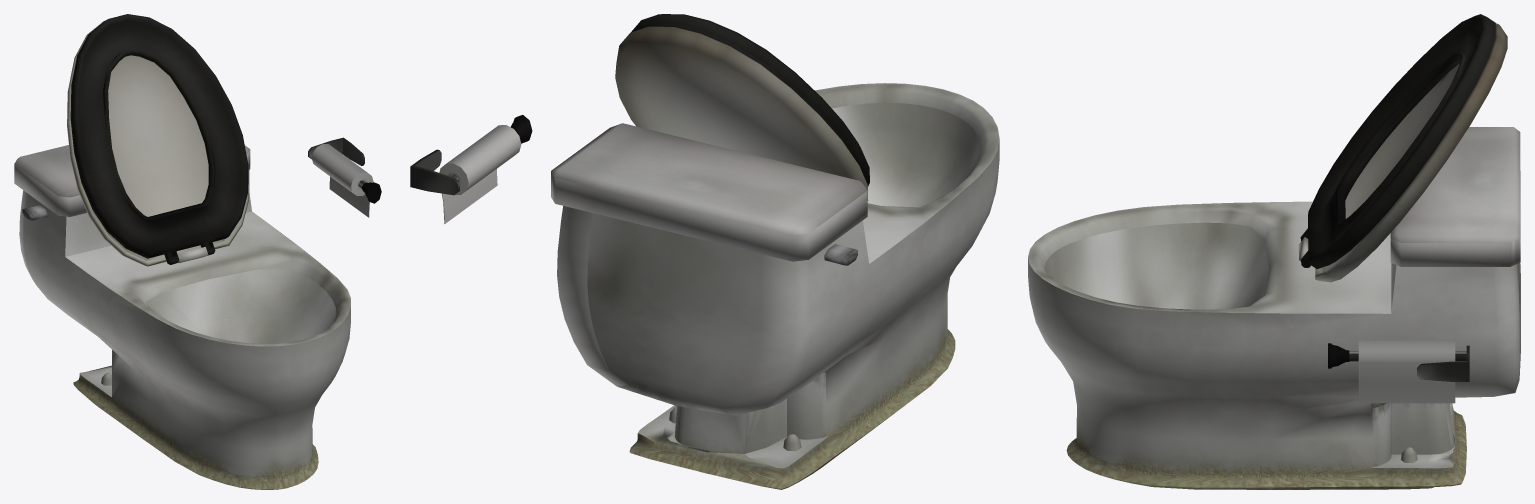
File: bathroom_props_toilette.fbx
3 renders of one model, left to right at view 1: azimuth 30°, elevation 25°; view 2: azimuth 150°, elevation 25°; view 3: azimuth 270°, elevation 25°, orthographic. The views are drawn at different scales.
Visible parts, largest first — view 1: Object005, Object03, 042_vray; view 2: Object005, Object03, 042_vray; view 3: Object005, Object03, 042_vray.
Boxes of the visible parts, x1=… form: Object005: x1=19, y1=190, x2=350, y2=489; Object03: x1=14, y1=14, x2=250, y2=385; 042_vray: x1=308, y1=137, x2=381, y2=217; Object005: x1=557, y1=83, x2=999, y2=489; Object03: x1=551, y1=14, x2=869, y2=450; 042_vray: x1=410, y1=115, x2=532, y2=223; Object005: x1=1028, y1=201, x2=1520, y2=489; Object03: x1=1298, y1=14, x2=1520, y2=462; 042_vray: x1=1328, y1=340, x2=1469, y2=403.
Bounding box in the file's own units: 0.9957 × 1.02 × 1.06.
